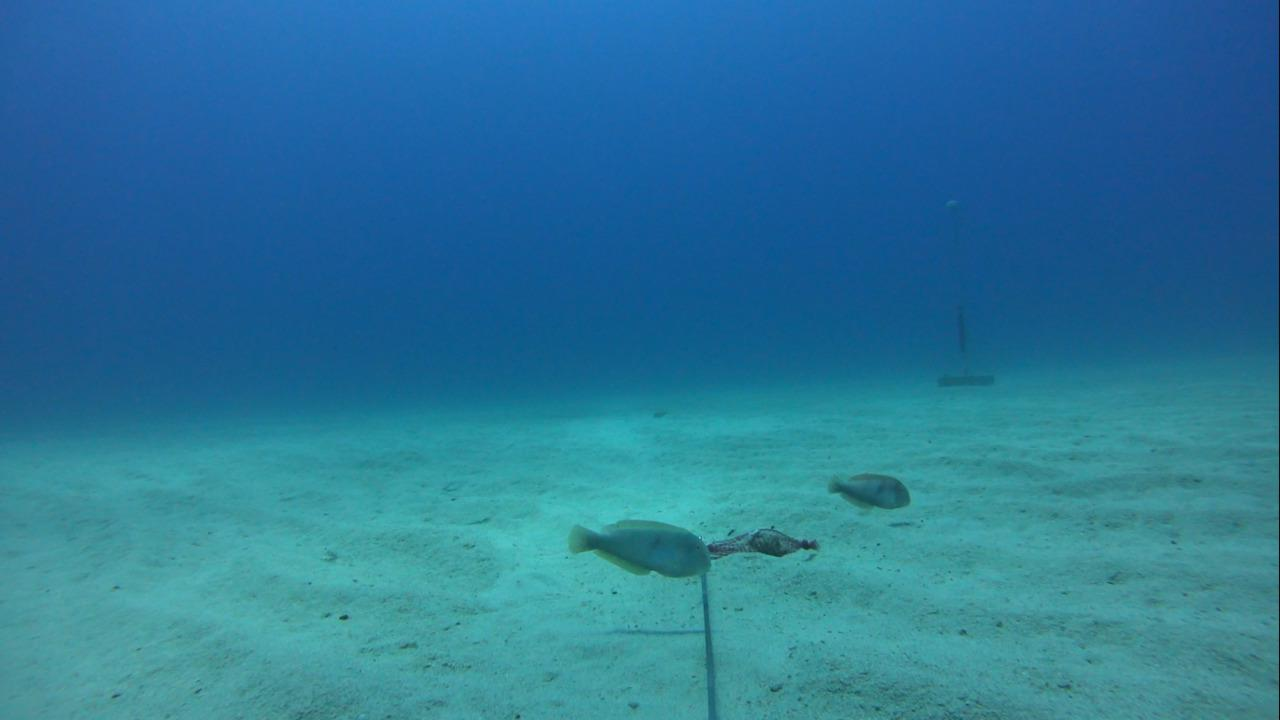raor: (558, 515, 720, 584), (821, 466, 916, 511)
